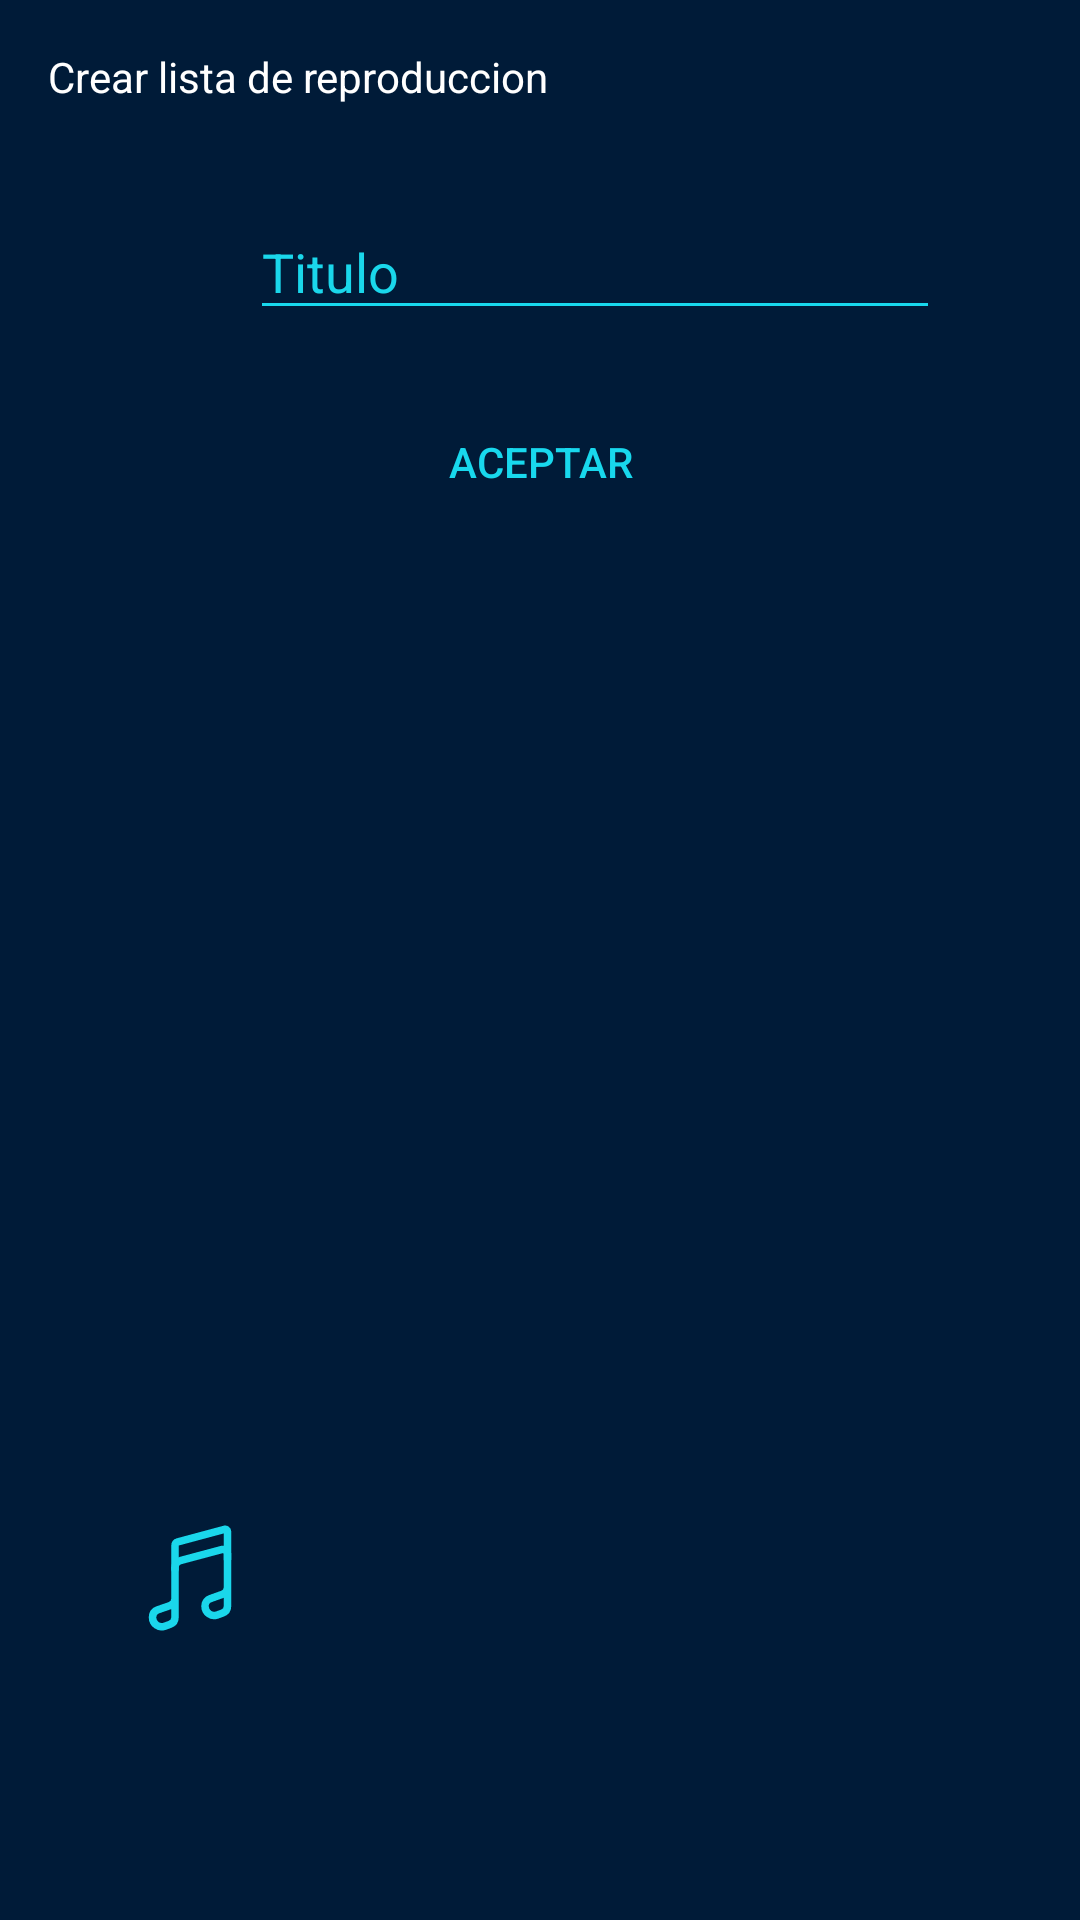

Icons on this 1080x1920 Android screen, each with the point to tap as [x,y]:
music: [190,1578]
